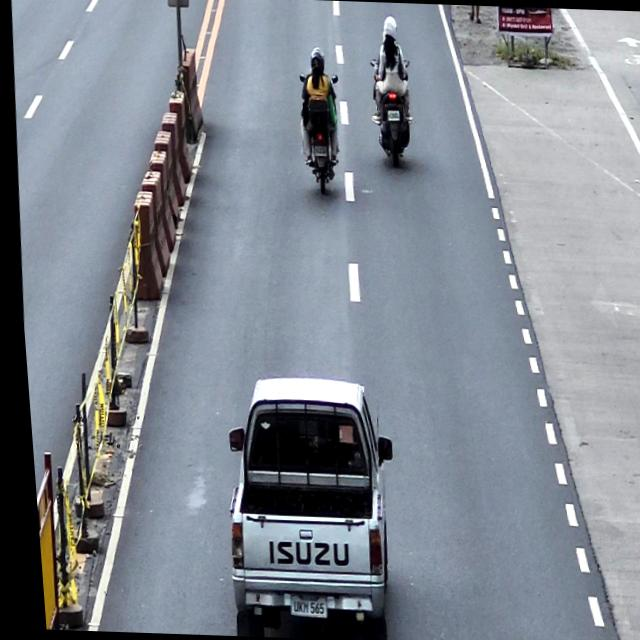Car: (208, 374, 397, 626)
License-Plate: (279, 594, 319, 618), (310, 144, 325, 156), (384, 108, 399, 120)
Motorcycle: (293, 72, 344, 195), (364, 56, 416, 166)
